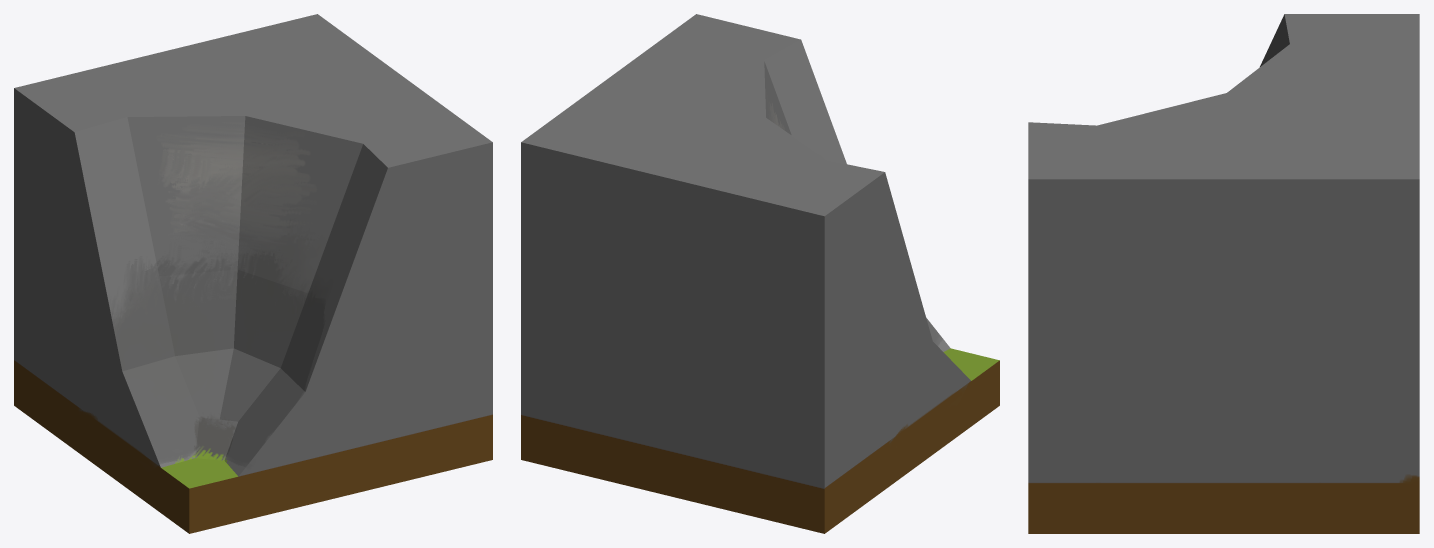
The model's file is mountainInteriorCorner.fbx.
3 renders of one model, left to right at view 1: azimuth 30°, elevation 25°; view 2: azimuth 150°, elevation 25°; view 3: azimuth 270°, elevation 25°, orthographic. The views are drawn at different scales.
Visible parts, largest first — view 1: MountainInteriorCorner; view 2: MountainInteriorCorner; view 3: MountainInteriorCorner.
Boxes of the visible parts, bbox=[...] form: MountainInteriorCorner: bbox=[14, 14, 492, 533]; MountainInteriorCorner: bbox=[521, 14, 999, 533]; MountainInteriorCorner: bbox=[1028, 14, 1419, 533].
Bounding box in the file's own units: 200 × 200 × 200.
1 material, 1 textured.
